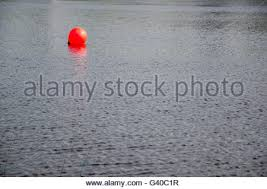buoy: (68, 27, 87, 47)
